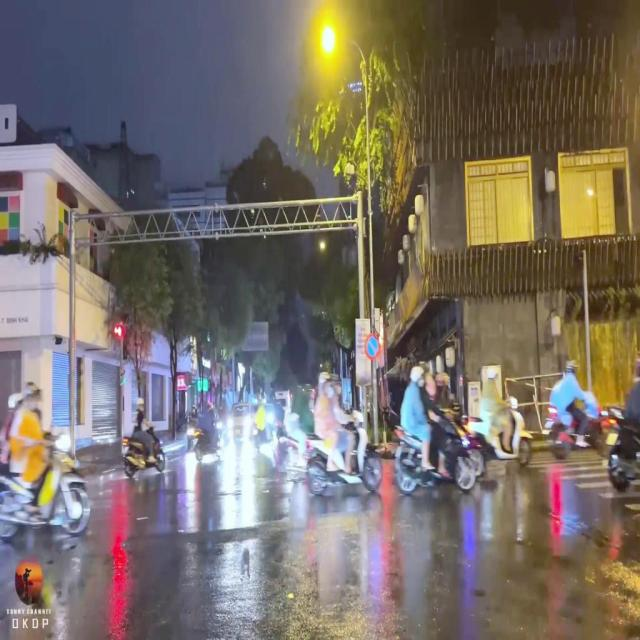cam_do_xe: (365, 332, 380, 360)
